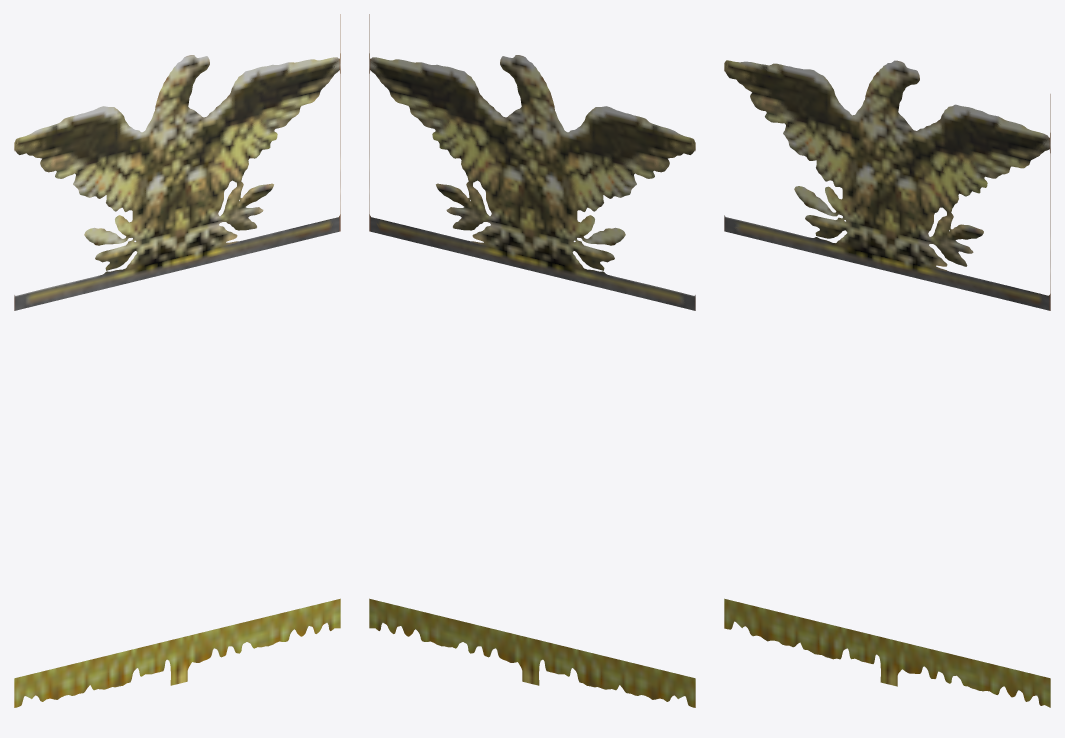
The model's file is rome_bireme_eaglebanner.dae.
3 renders of one model, left to right at view 1: azimuth 30°, elevation 25°; view 2: azimuth 150°, elevation 25°; view 3: azimuth 330°, elevation 25°, orthographic.
Parts seen in each view (by area): view 1: Cube_000; view 2: Cube_000; view 3: Cube_000.
Part boxes in pixels (<box>): Cube_000: <box>14,14,340,707</box>; Cube_000: <box>369,14,695,707</box>; Cube_000: <box>724,60,1050,707</box>.
Bounding box in the file's own units: 2.8 × 1.08e-05 × 5.17.
Materials: 1 (1 with a texture image).
